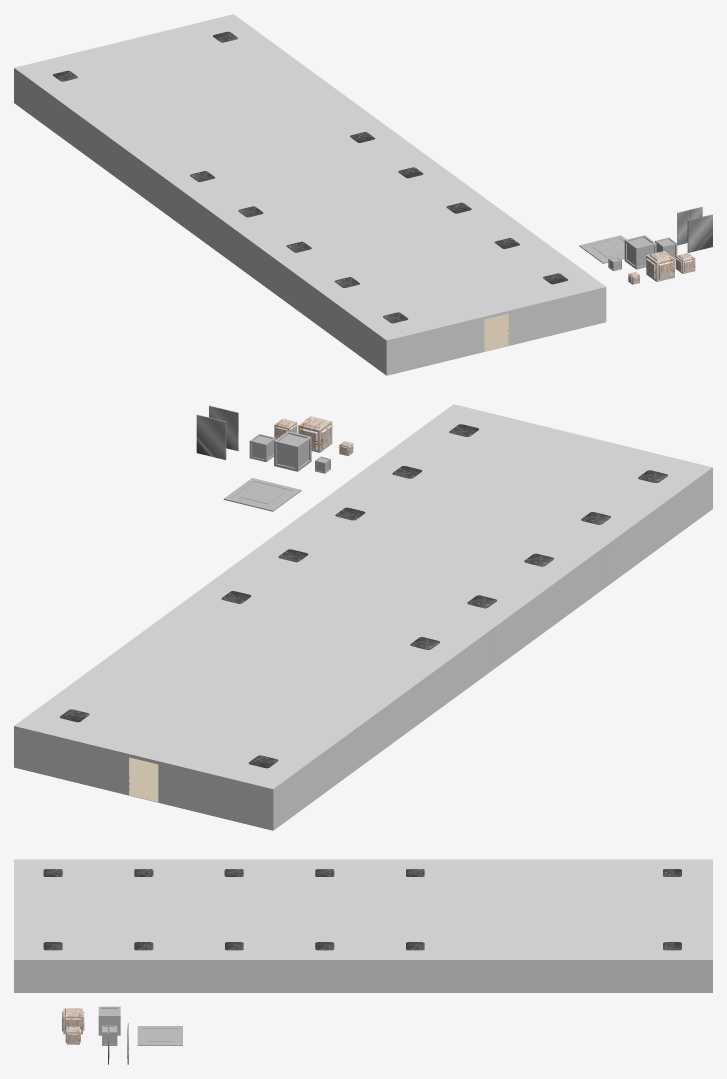
File: Fase 4 (Final).fbx
3 views of the same model, one above another, from view 1: azimuth 30°, elevation 25°; view 2: azimuth 150°, elevation 25°; view 3: azimuth 270°, elevation 25° (orthographic). The views are drawn at different scales.
Parts seen in each view (by area): view 1: Fase 4, Porta 1, Caixa de Madeira Grande, Plataforma, Bloco Imperial Grande; view 2: Fase 4, Plataforma, Caixa de Madeira Grande, Porta 2, Bloco Imperial Grande, Porta 1; view 3: Fase 4, Plataforma, Caixa de Madeira Grande, Bloco Imperial Grande.
Boxes of the visible parts, bbox=[...] form: Fase 4: bbox=[14, 14, 606, 375]; Porta 1: bbox=[687, 214, 712, 252]; Caixa de Madeira Grande: bbox=[624, 235, 656, 269]; Plataforma: bbox=[579, 235, 626, 263]; Bloco Imperial Grande: bbox=[646, 251, 674, 281]; Fase 4: bbox=[14, 404, 712, 830]; Plataforma: bbox=[223, 478, 301, 511]; Caixa de Madeira Grande: bbox=[274, 431, 311, 471]; Porta 2: bbox=[196, 414, 226, 459]; Bloco Imperial Grande: bbox=[298, 416, 332, 452]; Porta 1: bbox=[209, 405, 238, 450]; Fase 4: bbox=[14, 859, 712, 992]; Plataforma: bbox=[137, 1026, 182, 1045]; Caixa de Madeira Grande: bbox=[98, 1006, 120, 1035]; Bloco Imperial Grande: bbox=[62, 1008, 84, 1034].
Bounding box in the file's own units: 787 × 82.59 × 1350.
